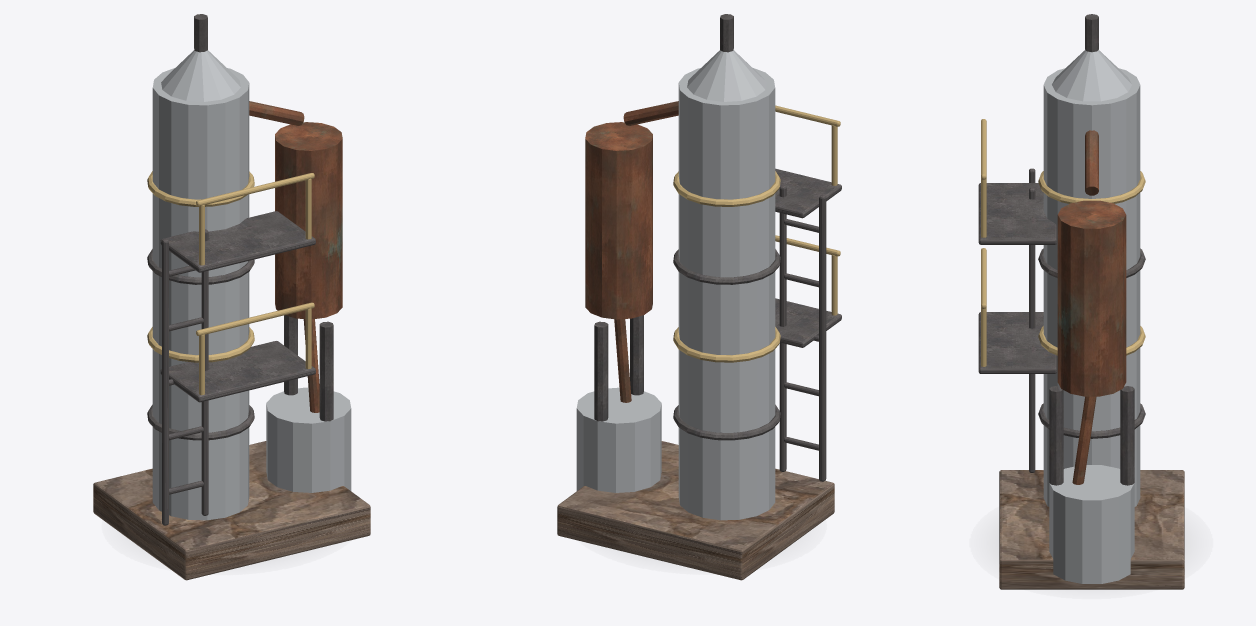
Rendered from distillation-tower.glb.
3 views of the same model, side by side, from view 1: azimuth 30°, elevation 25°; view 2: azimuth 150°, elevation 25°; view 3: azimuth 270°, elevation 25° (orthographic).
Visible parts, largest first — view 1: column, base, condenser, tank, platform.001, platform, cap, ladderRail, ladderRail.001, condLeg2, trayRing.001, trayRing.002 (+7 smaller); view 2: column, base, condenser, tank, cap, ladderRail, platform.001, ladderRail.001, platform, condLeg, condLeg2, trayRing (+5 smaller); view 3: column, condenser, base, tank, platform.001, platform, cap, condLeg, condLeg2, ladderRail.001, outPipe, vapPipe (+5 smaller).
Part boxes in pixels (x1,y1,x2,y2): column: [152, 67, 249, 520]; base: [93, 441, 370, 580]; condenser: [275, 122, 342, 319]; tank: [266, 387, 351, 492]; platform.001: [160, 211, 315, 272]; platform: [160, 341, 315, 402]; cap: [161, 50, 240, 101]; ladderRail: [162, 239, 168, 525]; ladderRail.001: [201, 229, 208, 515]; condLeg2: [319, 321, 333, 421]; trayRing.001: [147, 327, 254, 362]; trayRing.002: [147, 249, 254, 284]; column: [678, 67, 775, 520]; base: [557, 441, 834, 580]; condenser: [585, 122, 652, 319]; tank: [576, 387, 661, 492]; cap: [687, 50, 766, 101]; ladderRail: [819, 195, 826, 481]; platform.001: [775, 168, 841, 218]; ladderRail.001: [779, 185, 786, 471]; platform: [775, 298, 841, 347]; condLeg: [594, 321, 608, 421]; condLeg2: [630, 315, 643, 395]; trayRing: [673, 404, 780, 440]; column: [1043, 68, 1140, 506]; condenser: [1057, 200, 1126, 396]; base: [999, 470, 1184, 589]; tank: [1049, 465, 1134, 583]; platform.001: [978, 183, 1056, 244]; platform: [978, 312, 1056, 373]; cap: [1052, 50, 1131, 101]; condLeg: [1120, 386, 1134, 485]; condLeg2: [1049, 386, 1063, 485]; ladderRail.001: [1029, 188, 1035, 472]; outPipe: [1072, 396, 1096, 484]; vapPipe: [1085, 130, 1098, 195].
Bounding box in the file's own units: 2.3 × 3.97 × 2.1.
Materials: 8 (5 with a texture image).
